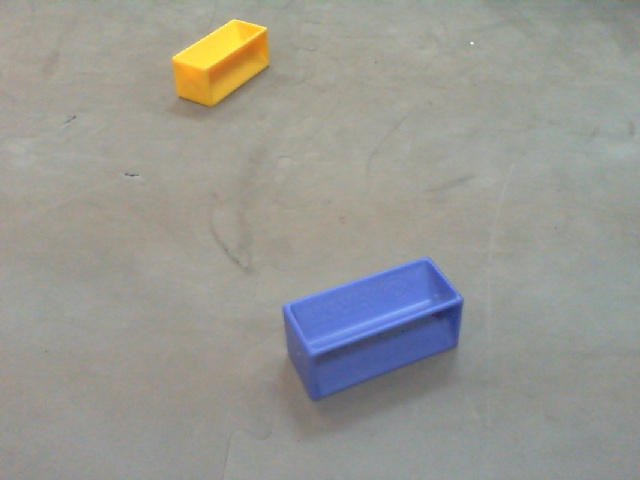BlueSample: (278, 254, 466, 412)
YellowSample: (169, 16, 270, 106)
